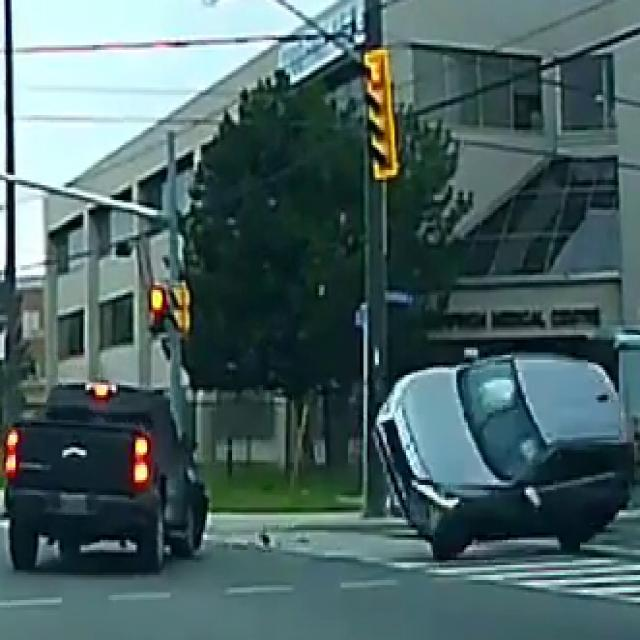accident: (356, 318, 635, 582), (8, 343, 243, 588)
